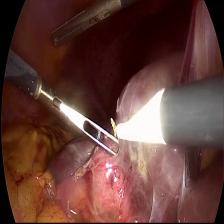Grasper: (37, 71, 119, 158), (48, 0, 126, 47)
Hook: (107, 78, 171, 156)
